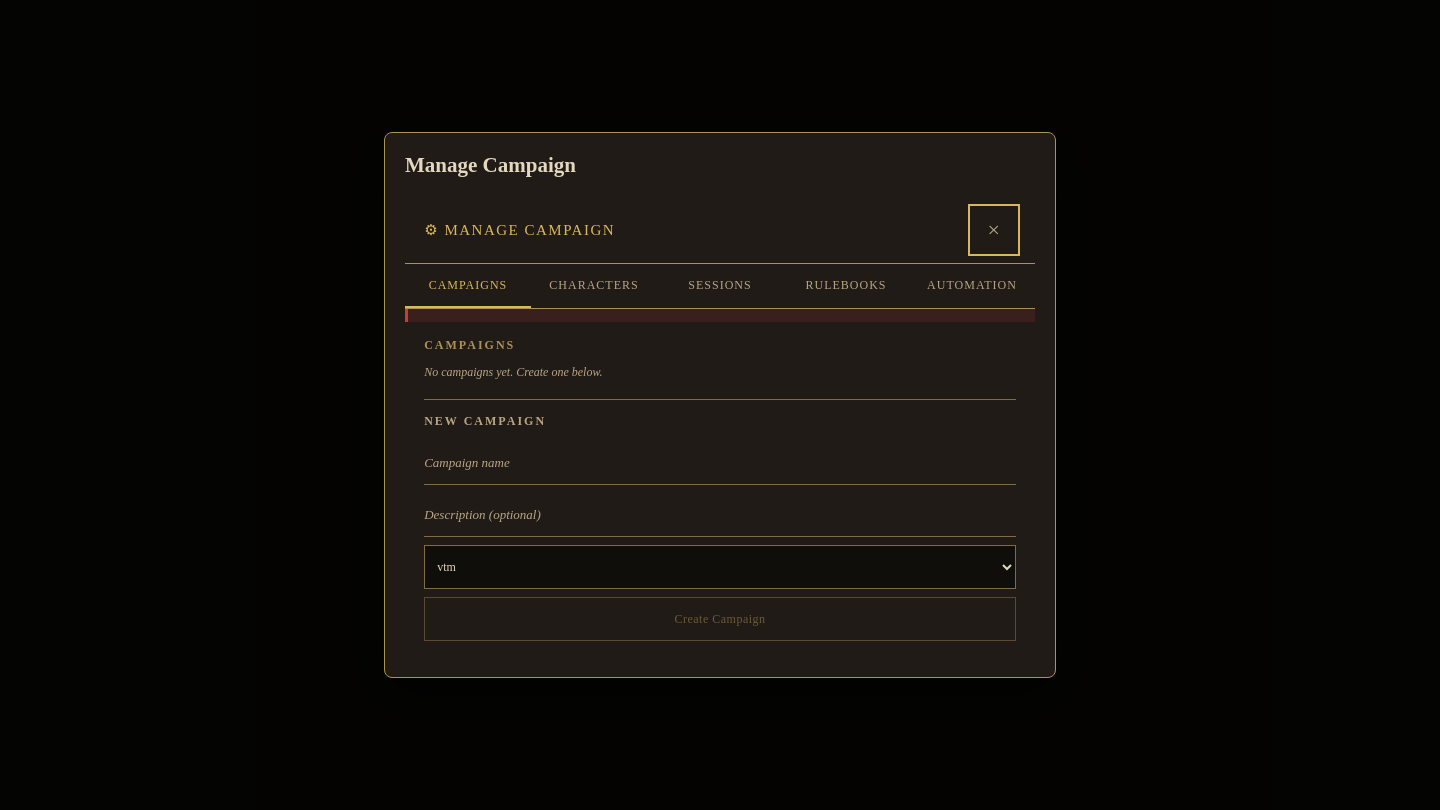
Test case: announces safe management errors without exposing provider details
In the field with placeholder "Campaign name": [720, 464] box [424,442,1016,486], type "Ashes"
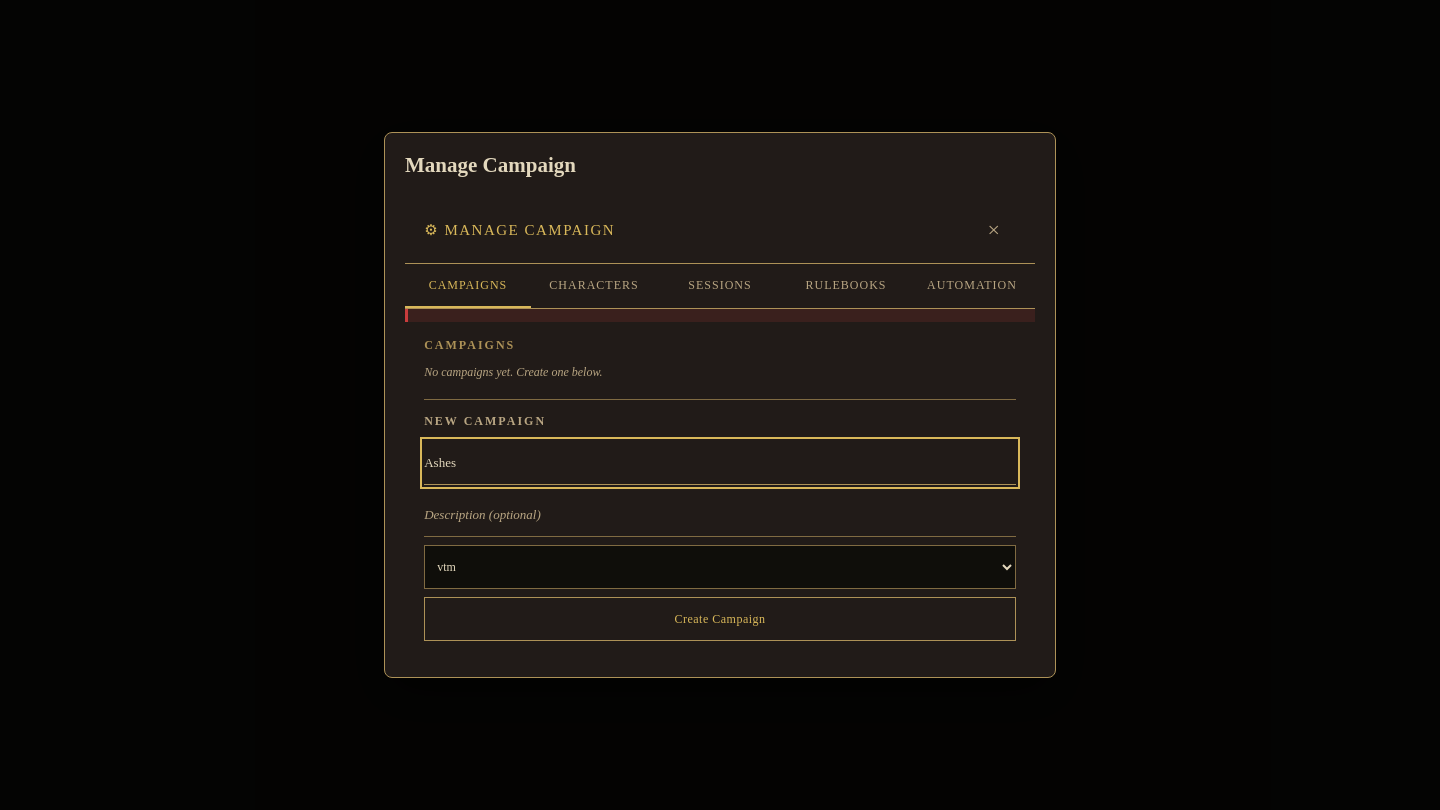
Click the button "Create Campaign": [720, 620] box [424,598,1016,642]
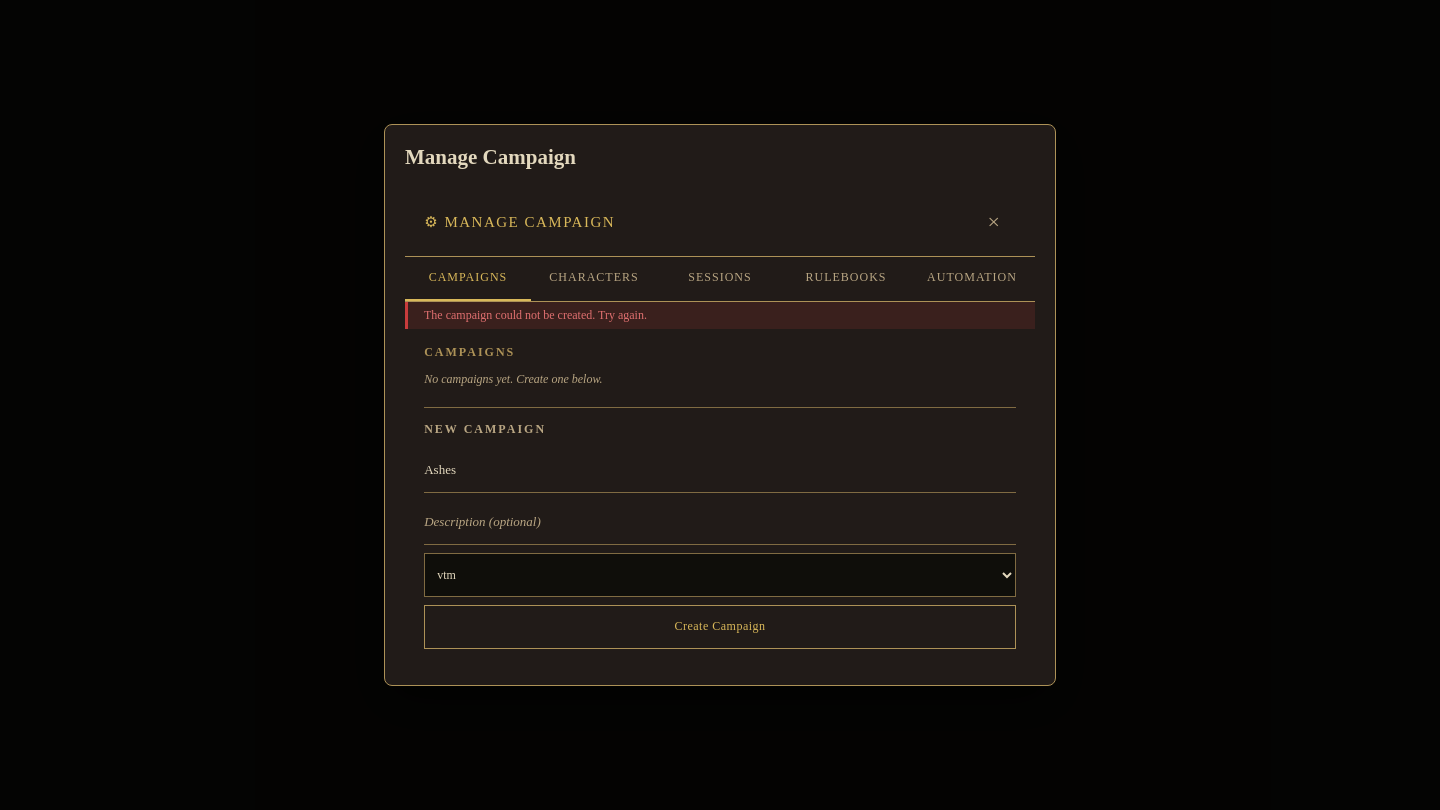
Check: the message reads "The campaign could not be created. Try again.", box [424,308,647,322]
